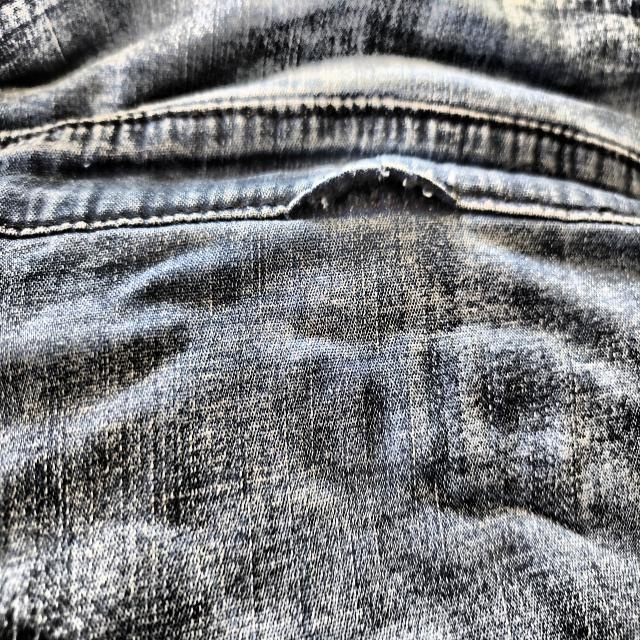seam: (265, 119, 478, 253)
